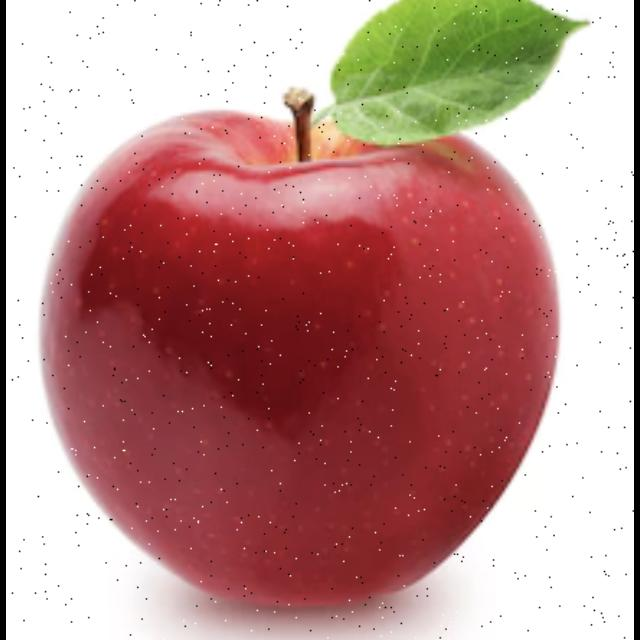Apel Segar: (35, 97, 564, 615)
